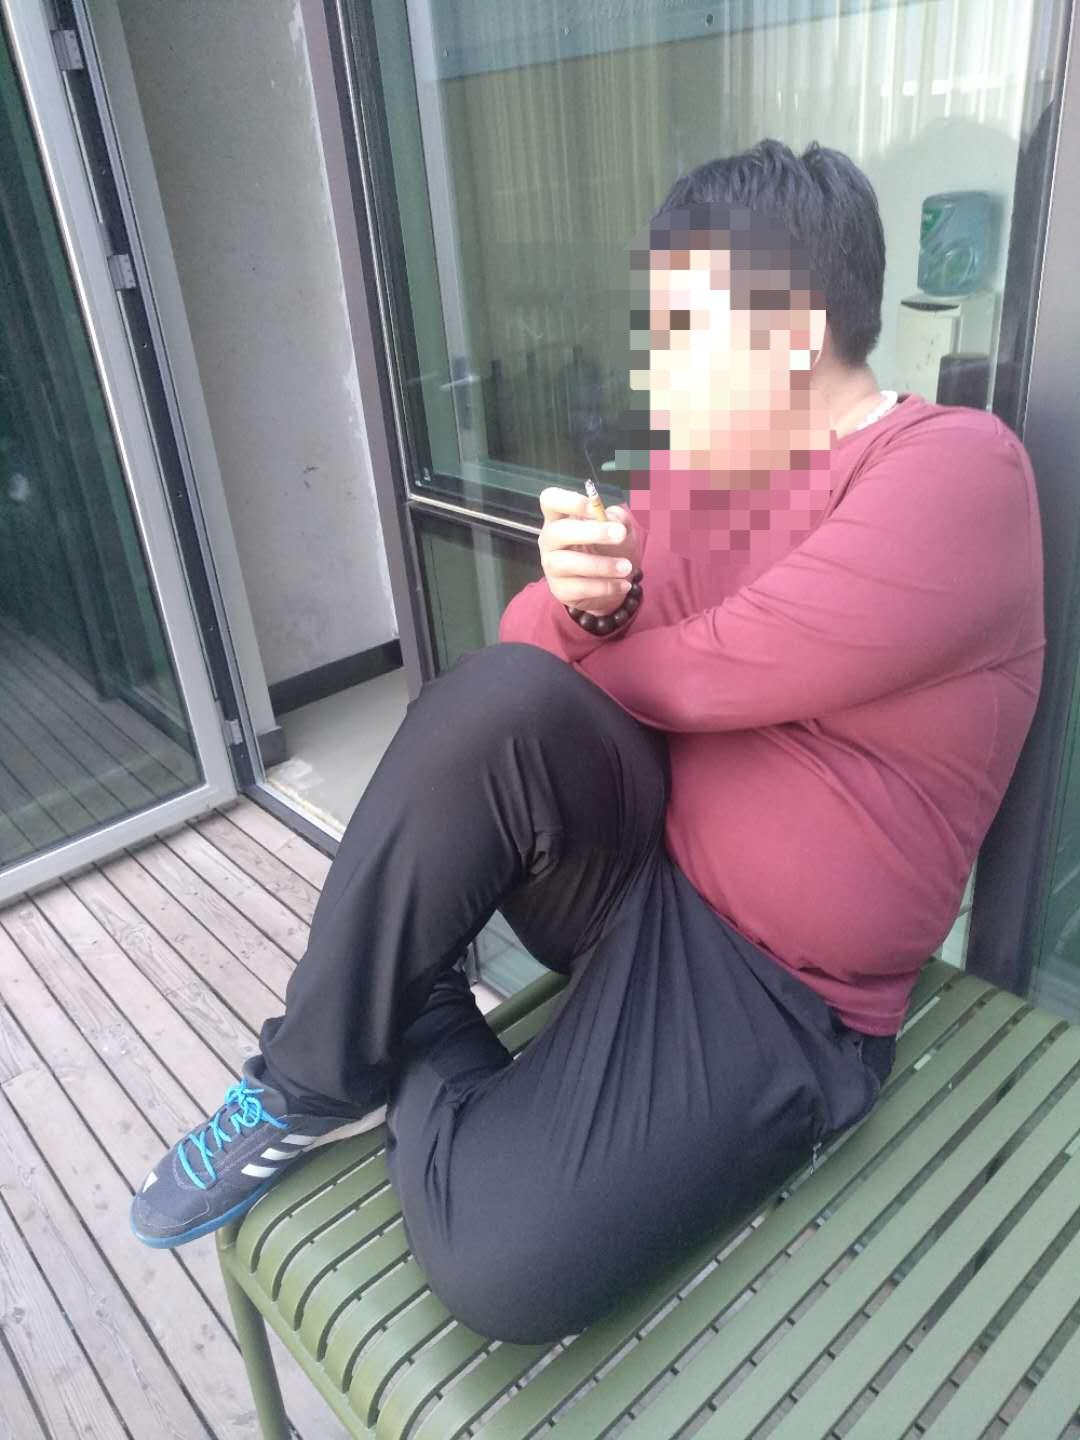smoke: (583, 475, 613, 524)
